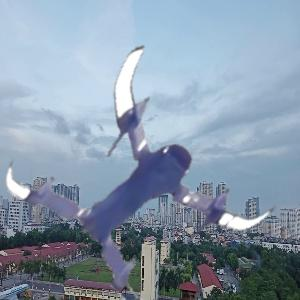drone: (30, 54, 276, 300)
